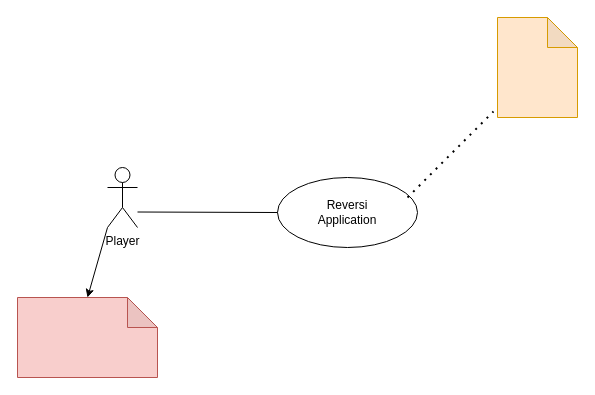
Image size: 595x395. Some labels were removed from this diagram. The shapes that lost their labels are listed below. From the top down, each one's box as (x1, y1, x2, y2) in pixels, then its label:
(496, 16, 578, 118): Web Application
(16, 296, 158, 378): 一人で 黒白交互に打つ
